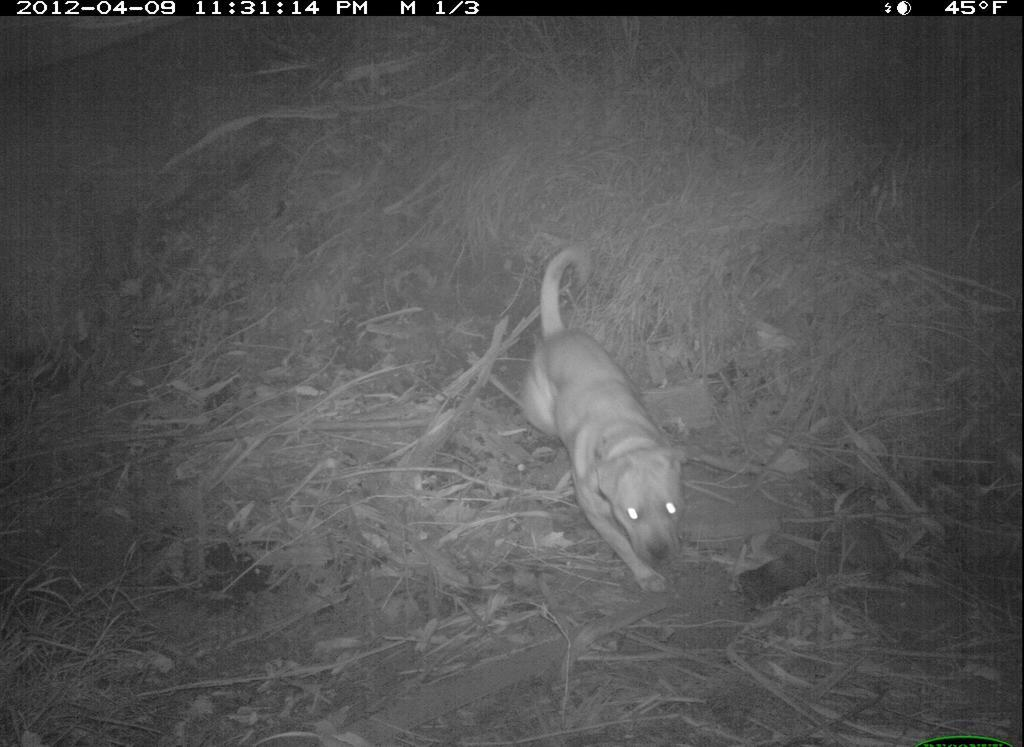dog: (514, 244, 694, 600)
